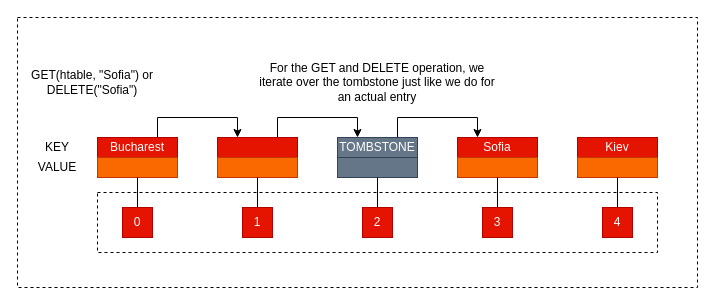
Some shapes in this 715 by 305 pixel diagram are drawn without their labels. The centre of each missing label's shape, as x and y in pixels:
Bulgaria: [497,167]
France: [257,167]
Paris: [257,147]
Romania: [137,167]
Ukraine: [617,167]
